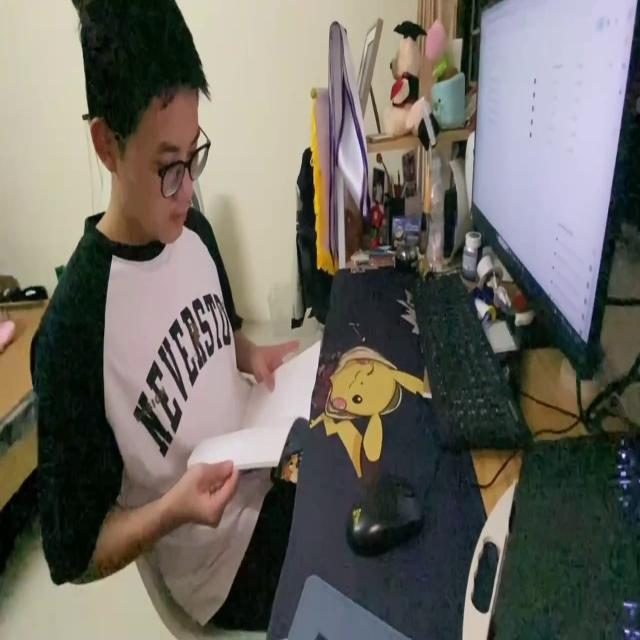book: (183, 334, 321, 482)
laptop: (467, 9, 640, 382)
student: (26, 0, 298, 627)
